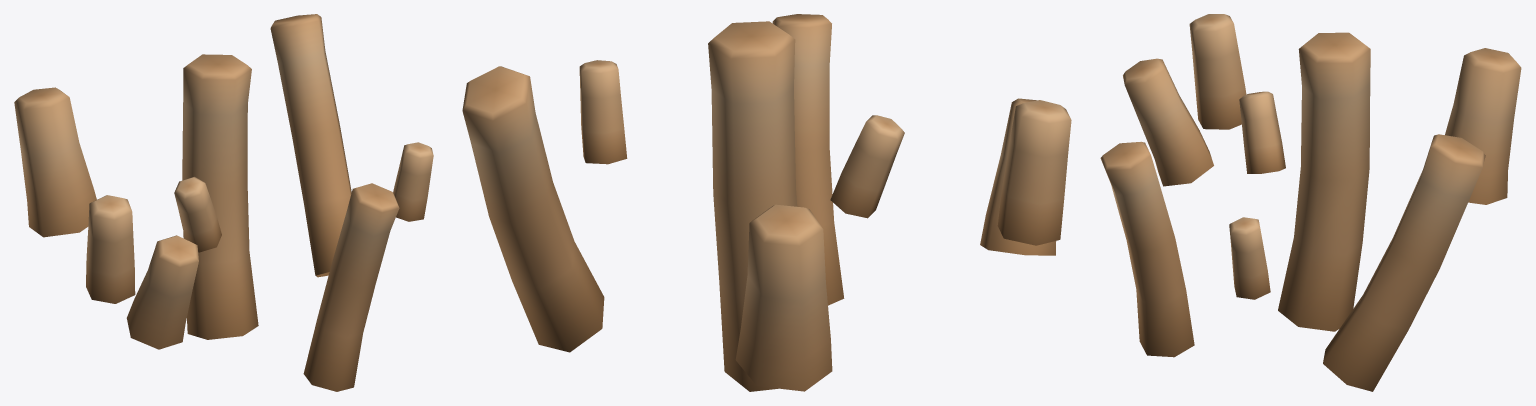
File: SM_Plant_AmanitaMushroom_Dead.fbx
The picture shows the model from 3 angles, left to right: view 1: azimuth 30°, elevation 25°; view 2: azimuth 150°, elevation 25°; view 3: azimuth 270°, elevation 25°; orthographic projection. The views are drawn at different scales.
Visible parts, largest first — view 1: SM_Plant_AmanitaMushroom_Dead; view 2: SM_Plant_AmanitaMushroom_Dead; view 3: SM_Plant_AmanitaMushroom_Dead.
Boxes of the visible parts, bbox=[...] form: SM_Plant_AmanitaMushroom_Dead: bbox=[14, 14, 433, 391]; SM_Plant_AmanitaMushroom_Dead: bbox=[462, 14, 1071, 391]; SM_Plant_AmanitaMushroom_Dead: bbox=[1100, 14, 1521, 391].
Size of the model in its own units: 51.96 by 37.71 by 50.12.
